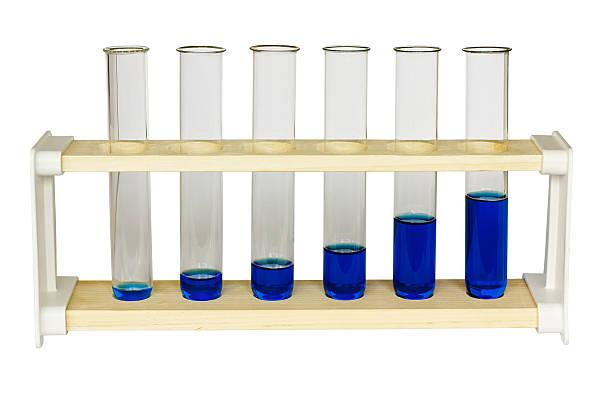Test tube: (312, 37, 378, 297), (458, 32, 519, 302), (385, 39, 445, 302), (169, 41, 228, 299), (98, 39, 155, 293), (248, 31, 297, 301)
